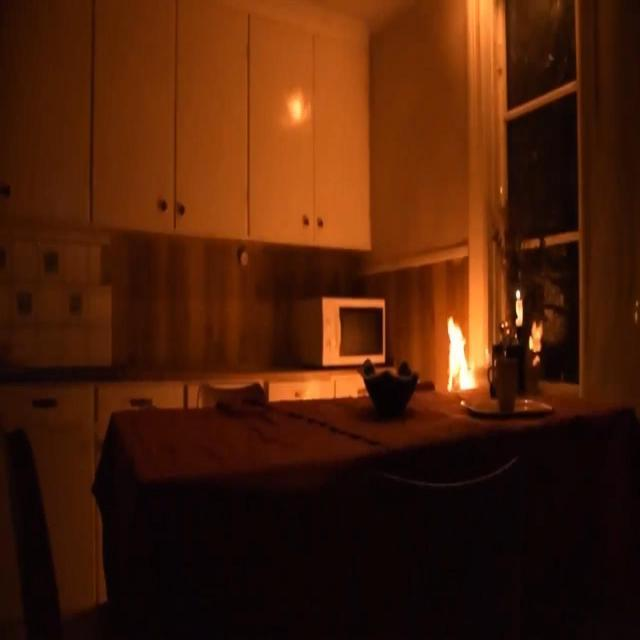smoke: (442, 308, 481, 394), (515, 287, 521, 302)
